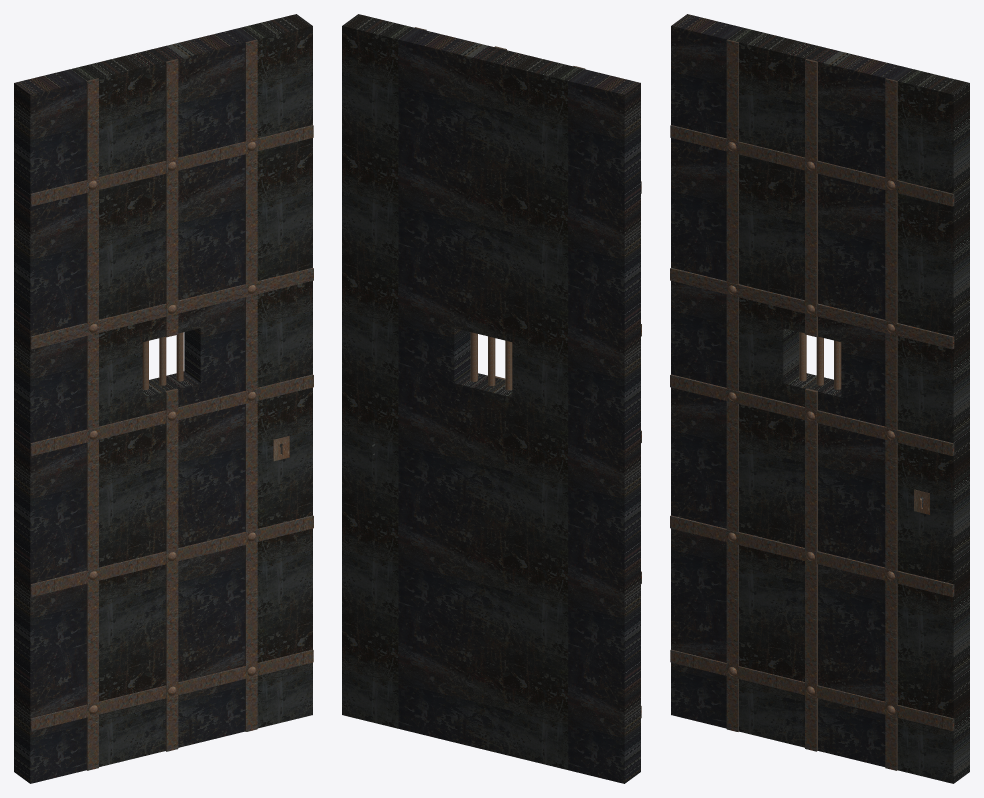
File: ext_door.FBX
The picture shows the model from 3 angles, left to right: view 1: azimuth 30°, elevation 25°; view 2: azimuth 150°, elevation 25°; view 3: azimuth 330°, elevation 25°; orthographic projection.
Parts seen in each view (by area): view 1: Box001, Bar_8, Bar_2, Bar_1, Bar_4, Bar_5, Bar_6, Bar_3, Bar_7; view 2: Box001; view 3: Box001, Bar_1, Bar_2, Bar_8, Bar_4, Bar_6, Bar_5, Bar_7, Bar_3.
Part boxes in pixels (left/top/right/bottom): Box001: left=14, top=14, right=312, bottom=783; Bar_8: left=165, top=59, right=178, bottom=751; Bar_2: left=245, top=39, right=257, bottom=731; Bar_1: left=86, top=78, right=98, bottom=770; Bar_4: left=30, top=267, right=313, bottom=349; Bar_5: left=30, top=374, right=313, bottom=455; Bar_6: left=30, top=515, right=313, bottom=596; Bar_3: left=30, top=125, right=313, bottom=206; Bar_7: left=30, top=649, right=313, bottom=730; Box001: left=342, top=14, right=640, bottom=783; Box001: left=671, top=14, right=969, bottom=783; Bar_1: left=726, top=39, right=738, bottom=731; Bar_2: left=885, top=78, right=897, bottom=770; Bar_8: left=805, top=59, right=817, bottom=751; Bar_4: left=670, top=267, right=954, bottom=349; Bar_6: left=670, top=515, right=954, bottom=596; Bar_5: left=670, top=374, right=954, bottom=455; Bar_7: left=670, top=649, right=954, bottom=730; Bar_3: left=670, top=125, right=954, bottom=206.
Bounding box in the file's own units: 0.905 × 0.1035 × 2.11.
3 materials, 3 textured.
